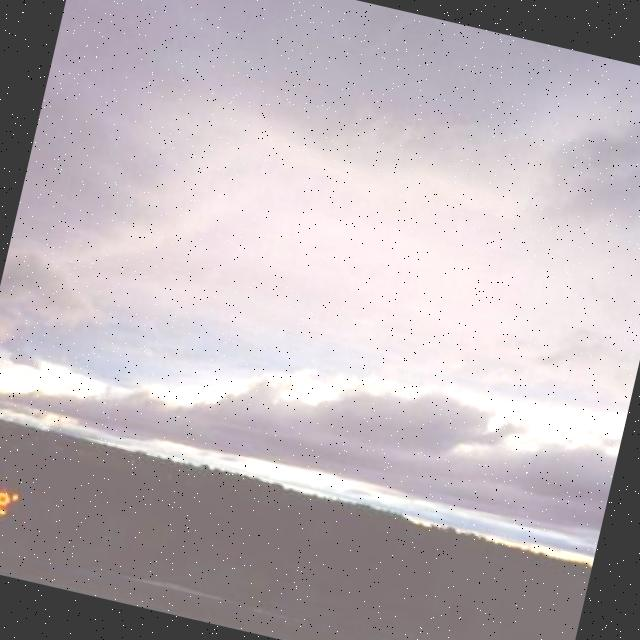St: (1, 1, 640, 548)
